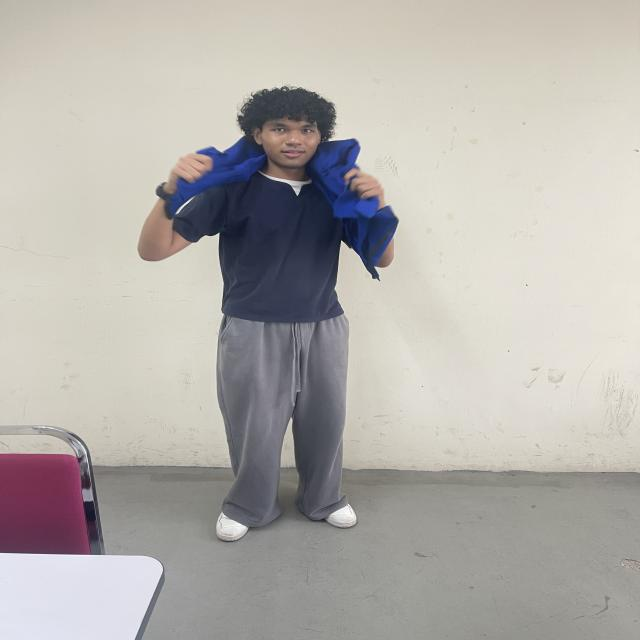person_without_labcoat: (138, 87, 398, 541)
